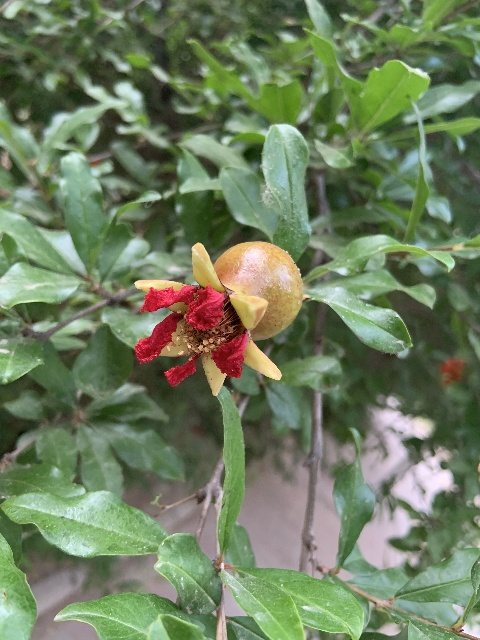early-fruit: (131, 240, 303, 397)
